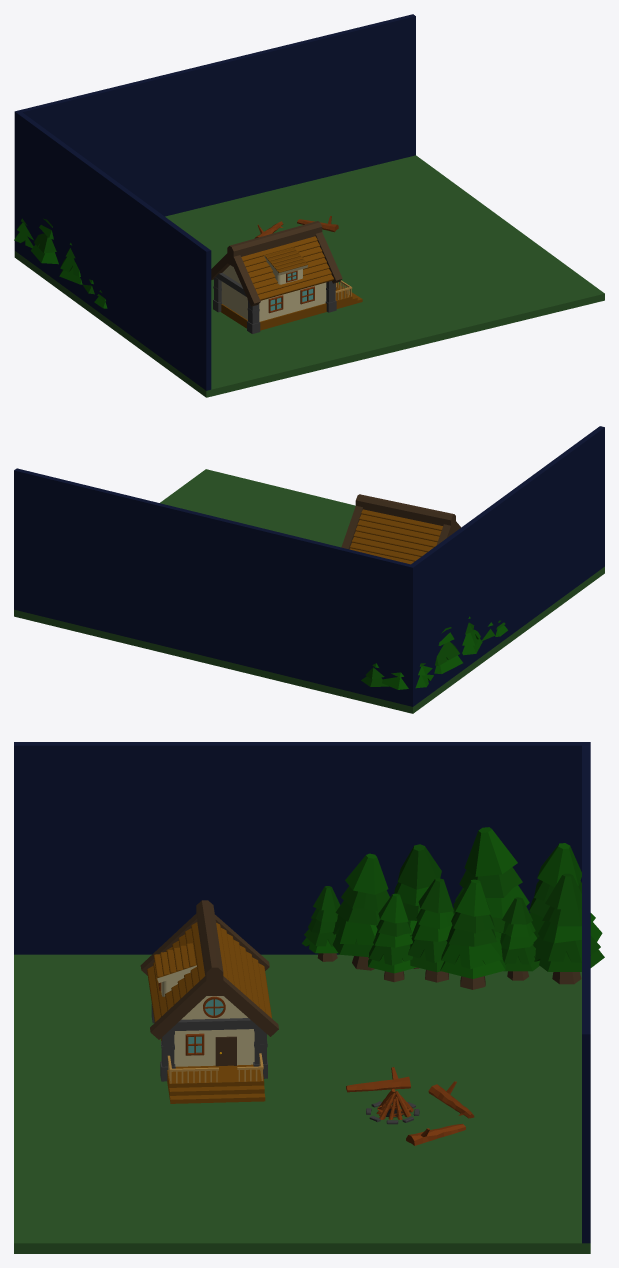
Rendered from exterior.fbx.
3 views of the same model, one above another, from view 1: azimuth 30°, elevation 25°; view 2: azimuth 150°, elevation 25°; view 3: azimuth 270°, elevation 25° (orthographic). The views are drawn at different scales.
Parts seen in each view (by area): view 1: background, base, pleats.001, roof, pillars, Pine Tree.003, Cube.001; view 2: background, pleats.001, roof, Pine Tree.003, Pine Tree.001, Pine Tree.004; view 3: background, base, roof, Pine Tree.007, Pine Tree.008, pleats.001, Pine Tree.005, Pine Tree.003, Pine Tree.002, Pine Tree.006, Pine Tree, Pine Tree.001 (+7 smaller).
Part boxes in pixels (x1,y1,x2,y2): background: (14,14,604,397); base: (221,265,362,330); pleats.001: (241,236,333,300); roof: (211,221,342,306); pillars: (213,273,336,333); Pine Tree.003: (31,218,58,264); Cube.001: (264,247,308,272); background: (14,426,604,713); pleats.001: (349,509,442,564); roof: (341,494,460,549); Pine Tree.003: (434,627,462,673); Pine Tree.001: (382,663,433,689); Pine Tree.004: (462,616,482,655); background: (14,742,590,1253); base: (161,996,265,1103); roof: (140,900,278,1039); Pine Tree.007: (440,879,505,989); Pine Tree.008: (533,873,604,984); pleats.001: (147,922,271,1022); Pine Tree.005: (332,853,389,970); Pine Tree.003: (453,827,529,941); Pine Tree.002: (408,878,454,982); Pine Tree.006: (368,893,416,982); Pine Tree: (499,897,539,980); Pine Tree.001: (529,843,602,941).
Bounding box in the file's own units: 6178 × 2100 × 5125.
